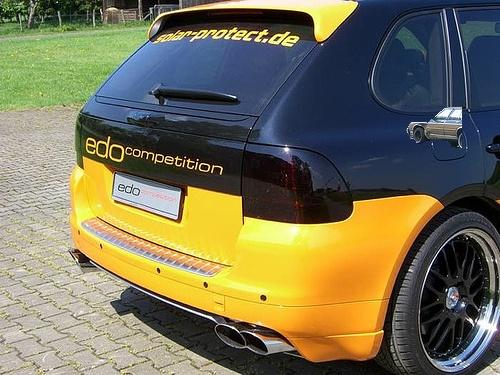tampered: (407, 108, 462, 148)
